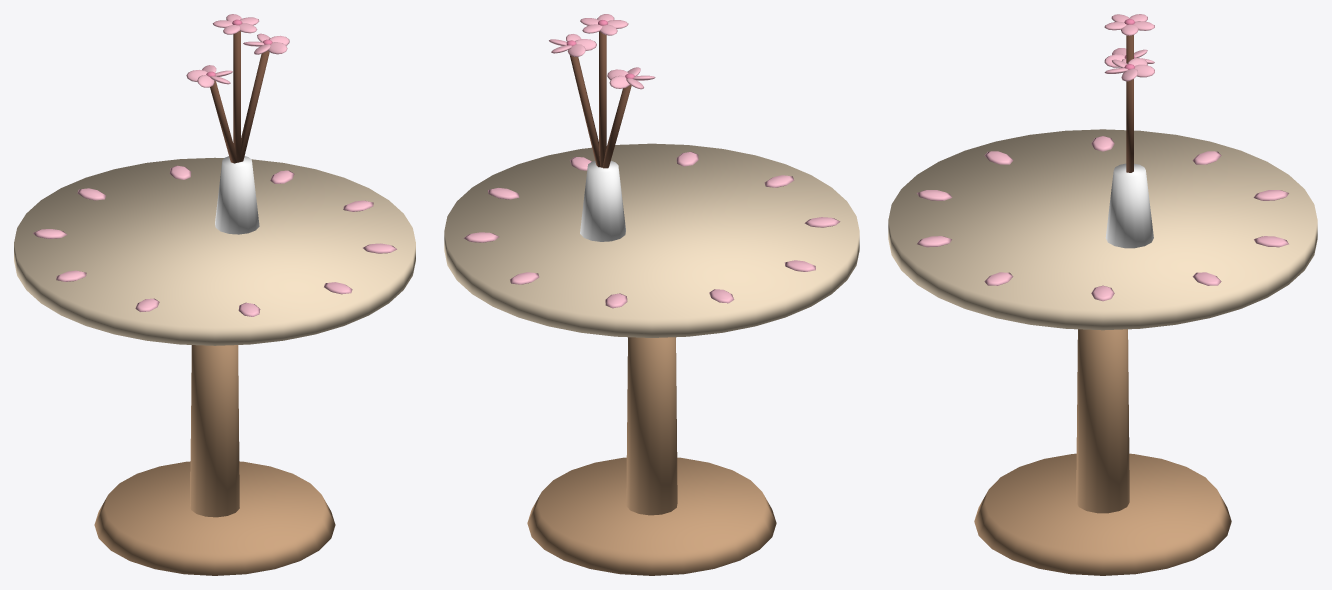
File: cherry-table.glb
3 views of the same model, side by side, from view 1: azimuth 30°, elevation 25°; view 2: azimuth 150°, elevation 25°; view 3: azimuth 270°, elevation 25° (orthographic). The views are drawn at different scales.
Visible parts, largest first — view 1: table; view 2: table; view 3: table.
Part boxes in pixels (box(x1,y1,x2,y2)): table: box(14, 14, 415, 575); table: box(444, 14, 859, 575); table: box(888, 14, 1317, 575).
Size of the model in its own units: 0.8 by 1.07 by 0.8.
